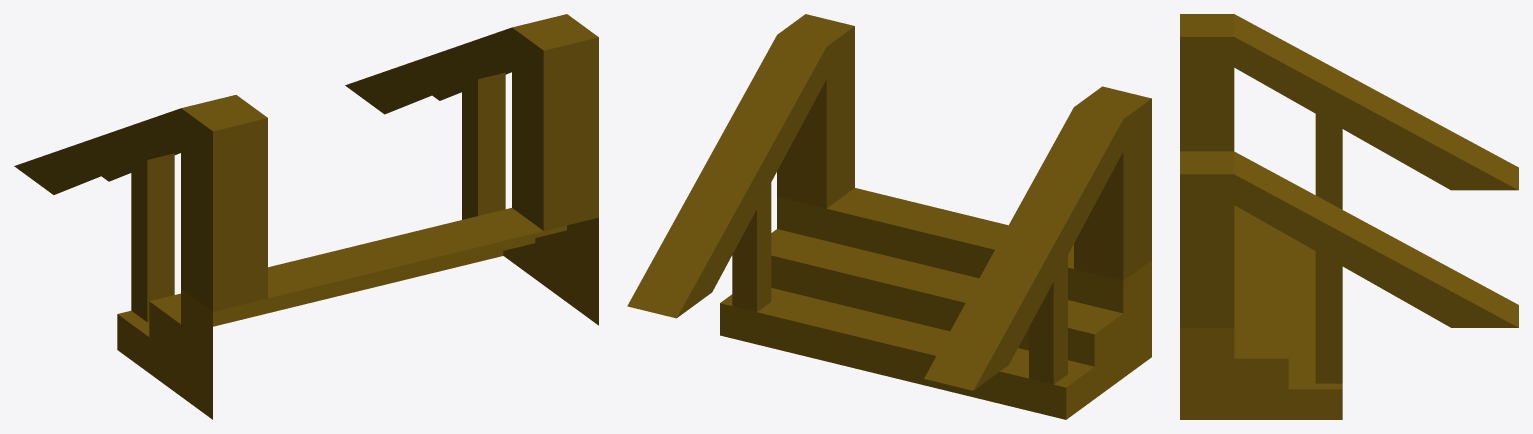
File: obj_staircase_5_0.obj
3 views of the same model, side by side, from view 1: azimuth 30°, elevation 25°; view 2: azimuth 150°, elevation 25°; view 3: azimuth 270°, elevation 25° (orthographic). The views are drawn at different scales.
Size of the model in its own units: 1.75 by 1.25 by 1.56.
